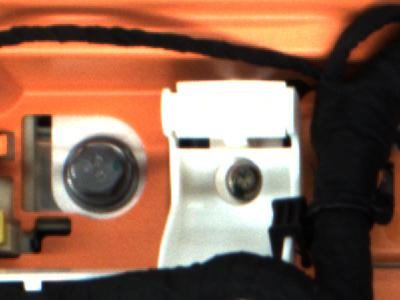nut_b: (61, 134, 140, 205)
screw_m: (219, 155, 267, 206)
